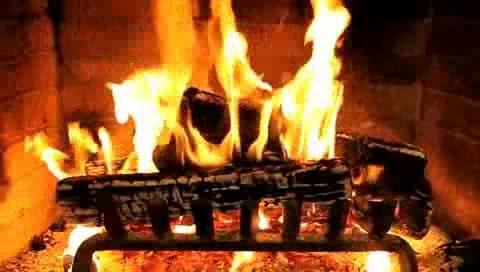fire: (7, 0, 474, 172)
